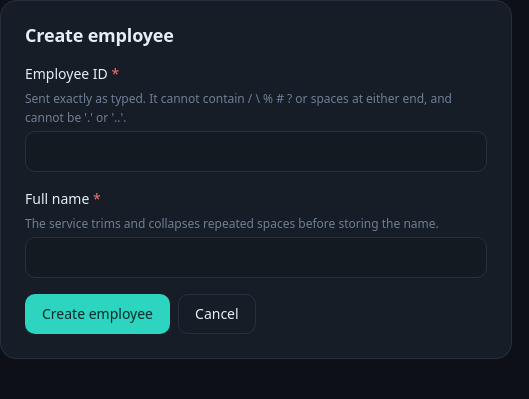
Test: create employee form › rejects an identifier with surrounding whitespace without trimming it
The image size is (529, 399).
Type "EMP-1 " into the field labelled "Employee ID *" at (256, 152), box [25,131,487,172]
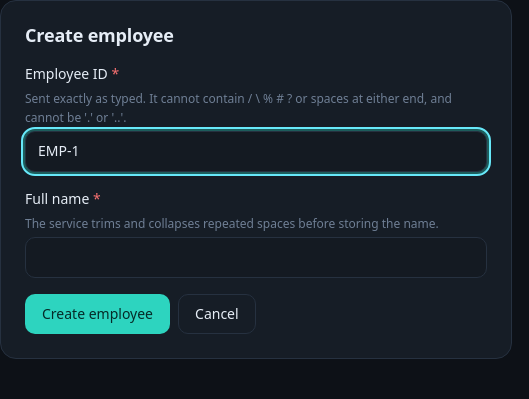
Type "Ada Example" into the field labelled "Full name *" at (256, 258), box [25,237,487,278]
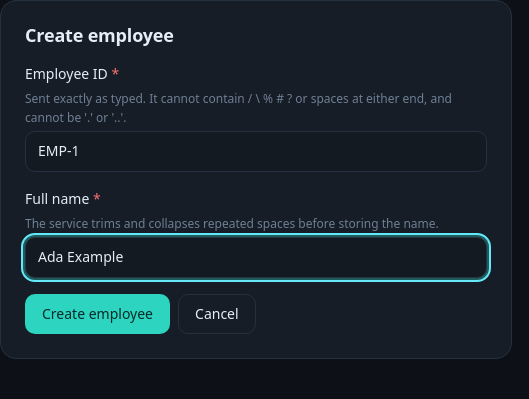
Click the button "Create employee" at (98, 314), box [25,294,170,334]
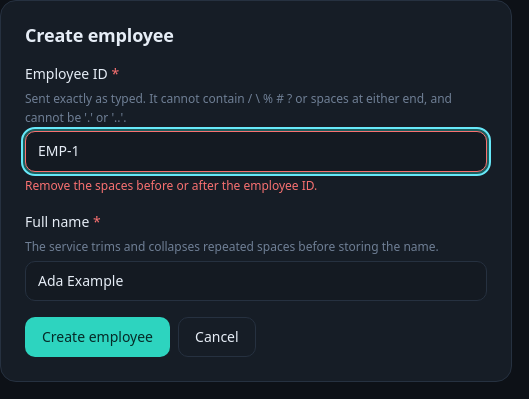
expect the text "Remove the spaces before or after the employee ID." is shown: met, box [25,177,317,194]
